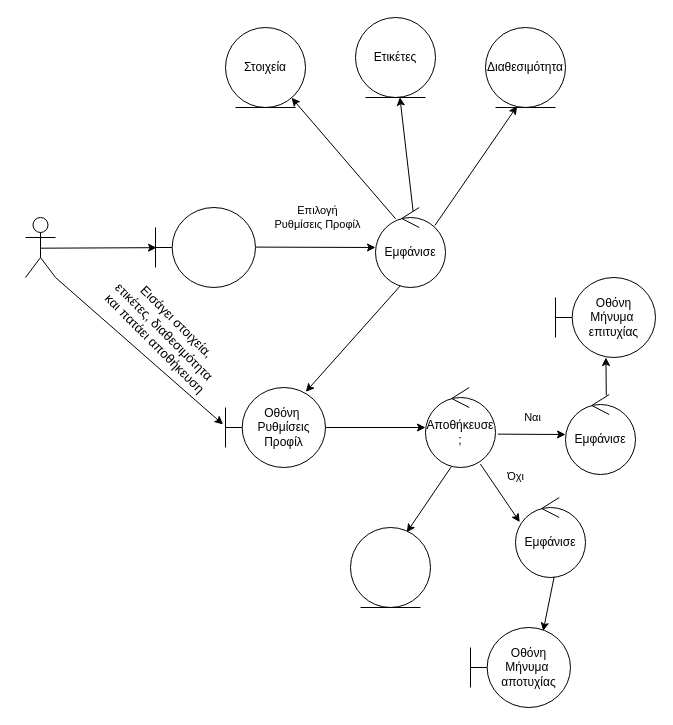
The diagram is 673 pixels wide and 725 high, and some of its shapes have lost their labels. The box of each missing label's shape, as (x1, y1, x2, y2) in pixels:
Βάση δεδομένων: (350, 526, 430, 608)
Οθόνη Κεντρικό Μενού: (154, 206, 256, 288)
Χρήστης: (24, 216, 56, 278)
